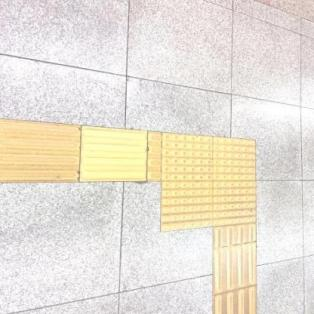Podoctatil: (120, 93, 279, 275), (0, 119, 162, 181), (214, 230, 258, 314)
